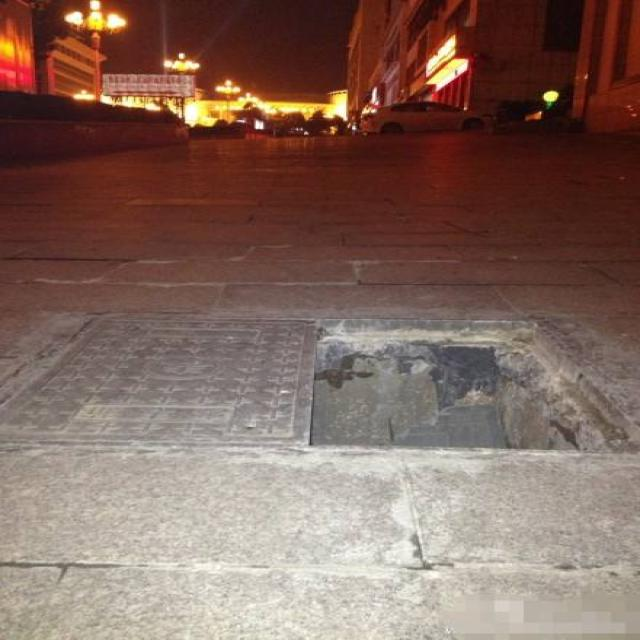manhole-cover: (276, 312, 640, 471)
